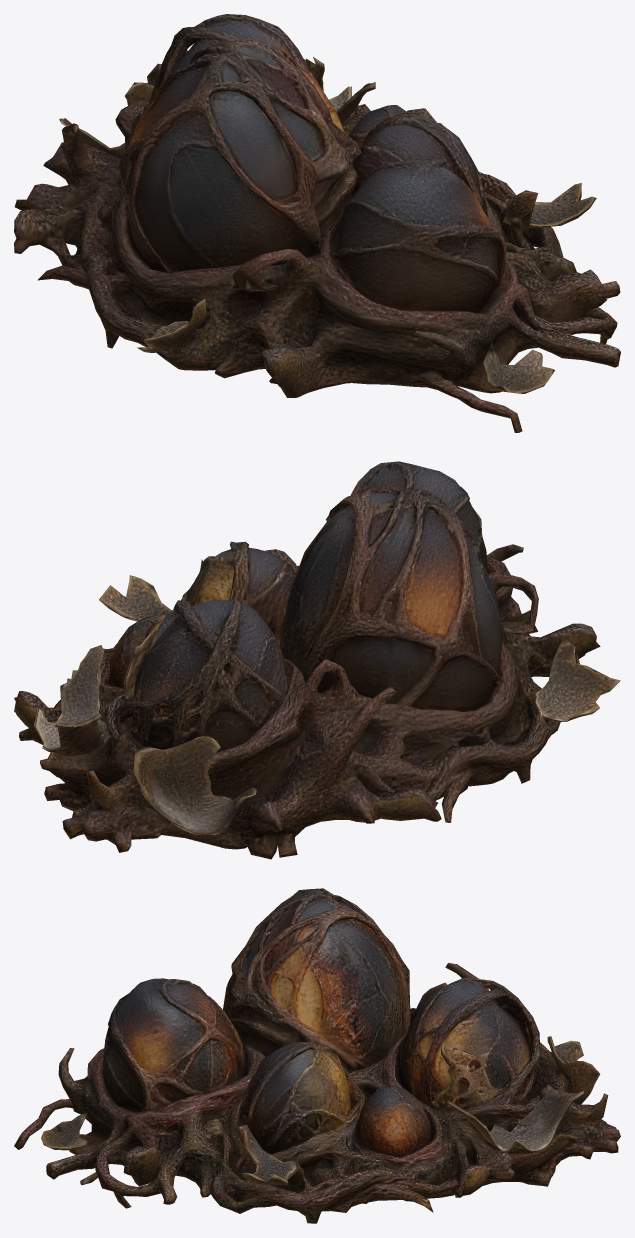
Rendered from monster-egg-nest.glb.
3 renders of one model, top to bottom at view 1: azimuth 30°, elevation 25°; view 2: azimuth 150°, elevation 25°; view 3: azimuth 270°, elevation 25°, orthographic. The views are drawn at different scales.
Parts seen in each view (by area): view 1: tripo_node_73beb421-5b98-44d9-a0d3-5b874cdb0cdc; view 2: tripo_node_73beb421-5b98-44d9-a0d3-5b874cdb0cdc; view 3: tripo_node_73beb421-5b98-44d9-a0d3-5b874cdb0cdc.
Part boxes in pixels (<box>): tripo_node_73beb421-5b98-44d9-a0d3-5b874cdb0cdc: <box>14,14,620,432</box>; tripo_node_73beb421-5b98-44d9-a0d3-5b874cdb0cdc: <box>14,461,620,859</box>; tripo_node_73beb421-5b98-44d9-a0d3-5b874cdb0cdc: <box>14,888,620,1223</box>.
Size of the model in its own units: 0.7305 by 0.3939 by 1.
1 material, 1 textured.
